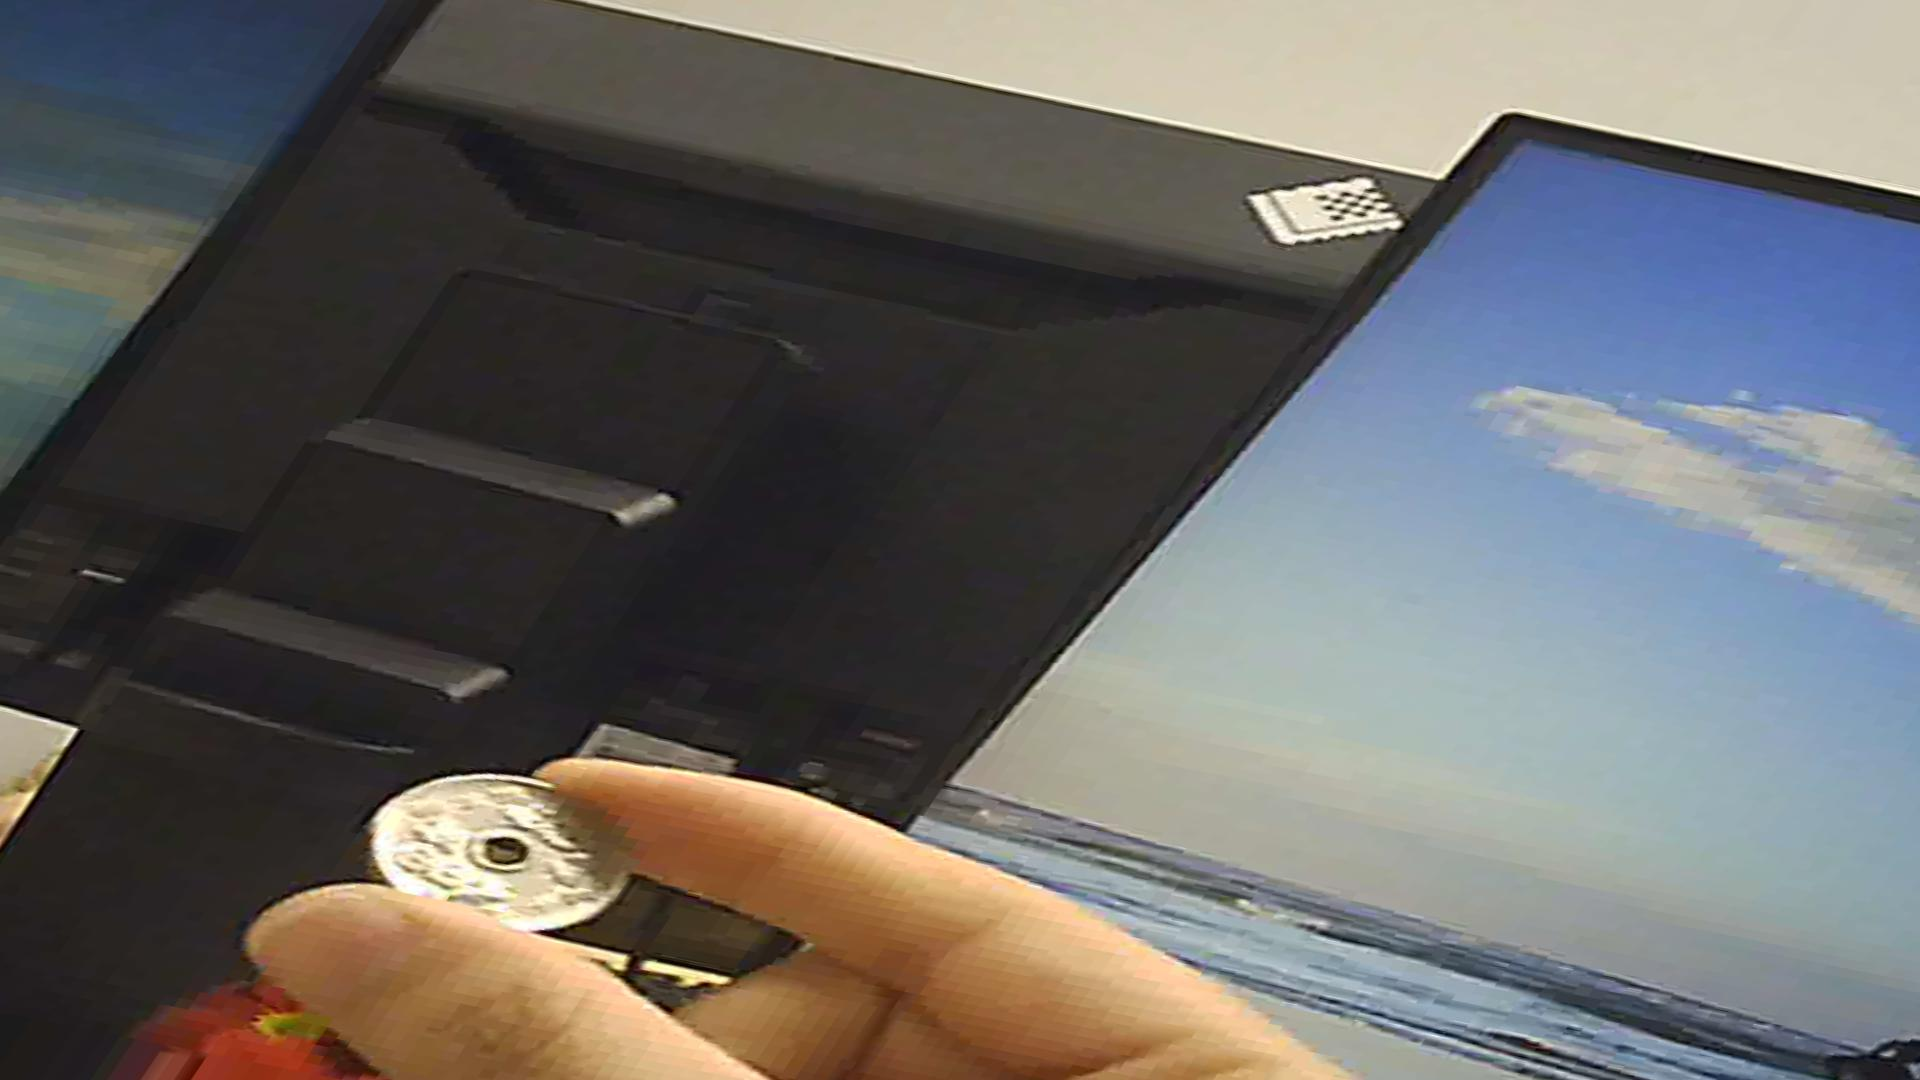50 Yen: (365, 765, 630, 934)
